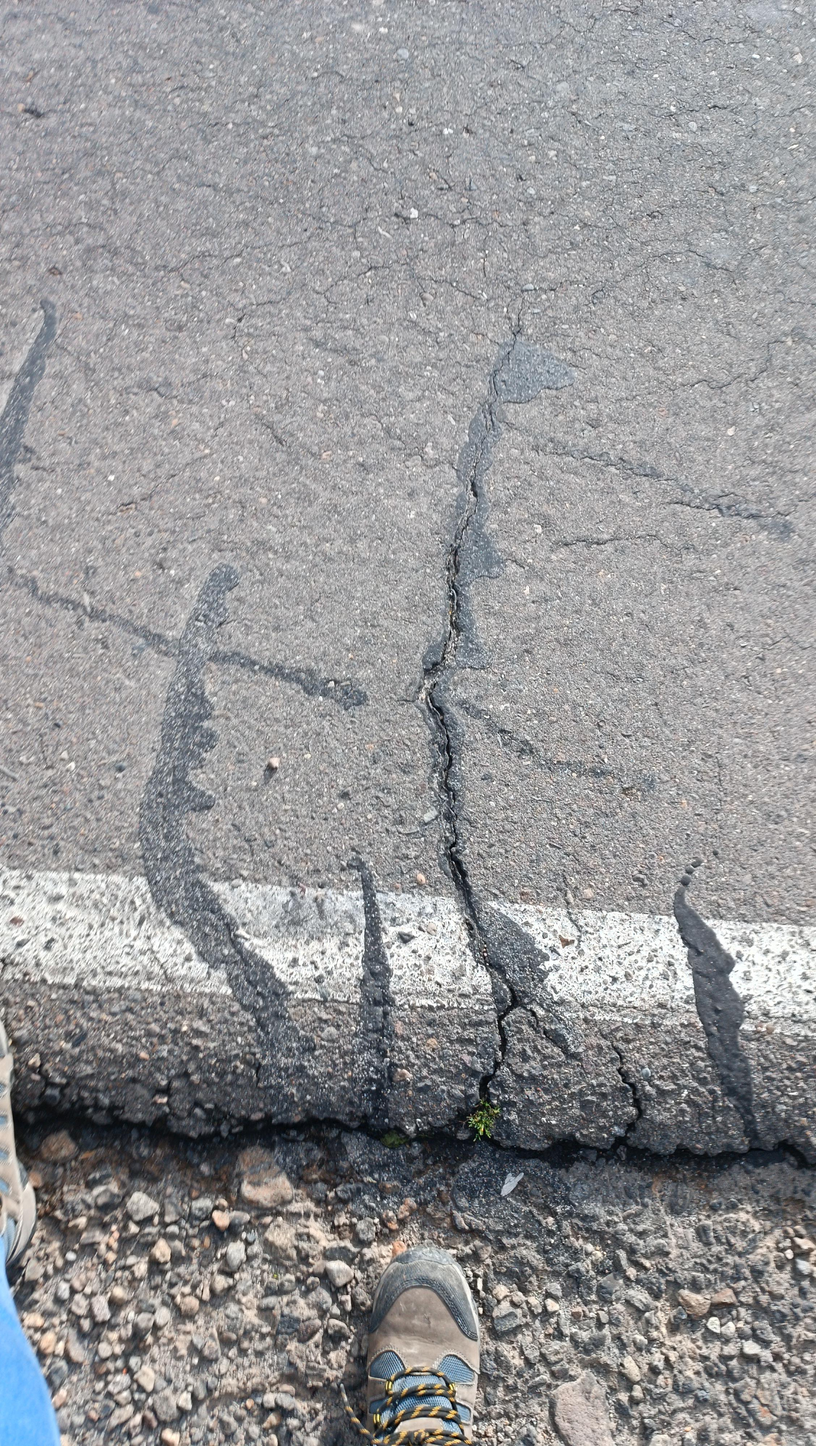GRIETA: (417, 326, 525, 1105)
PIEL DE COCODRILO: (0, 8, 816, 524)
